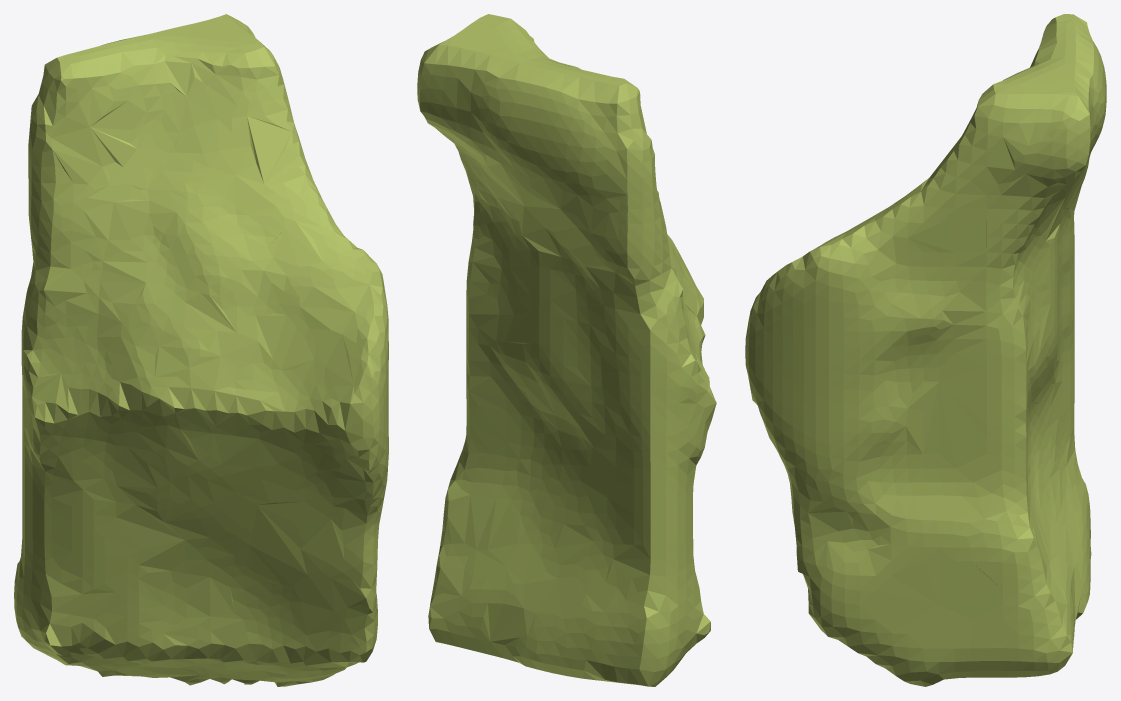
Rendered from Model_10065_LH__Area_31_of_cortex_(A31).obj.
The picture shows the model from 3 angles, left to right: view 1: azimuth 30°, elevation 25°; view 2: azimuth 150°, elevation 25°; view 3: azimuth 270°, elevation 25°; orthographic projection. The views are drawn at different scales.
Size of the model in its own units: 1.8 by 4.09 by 2.27.
